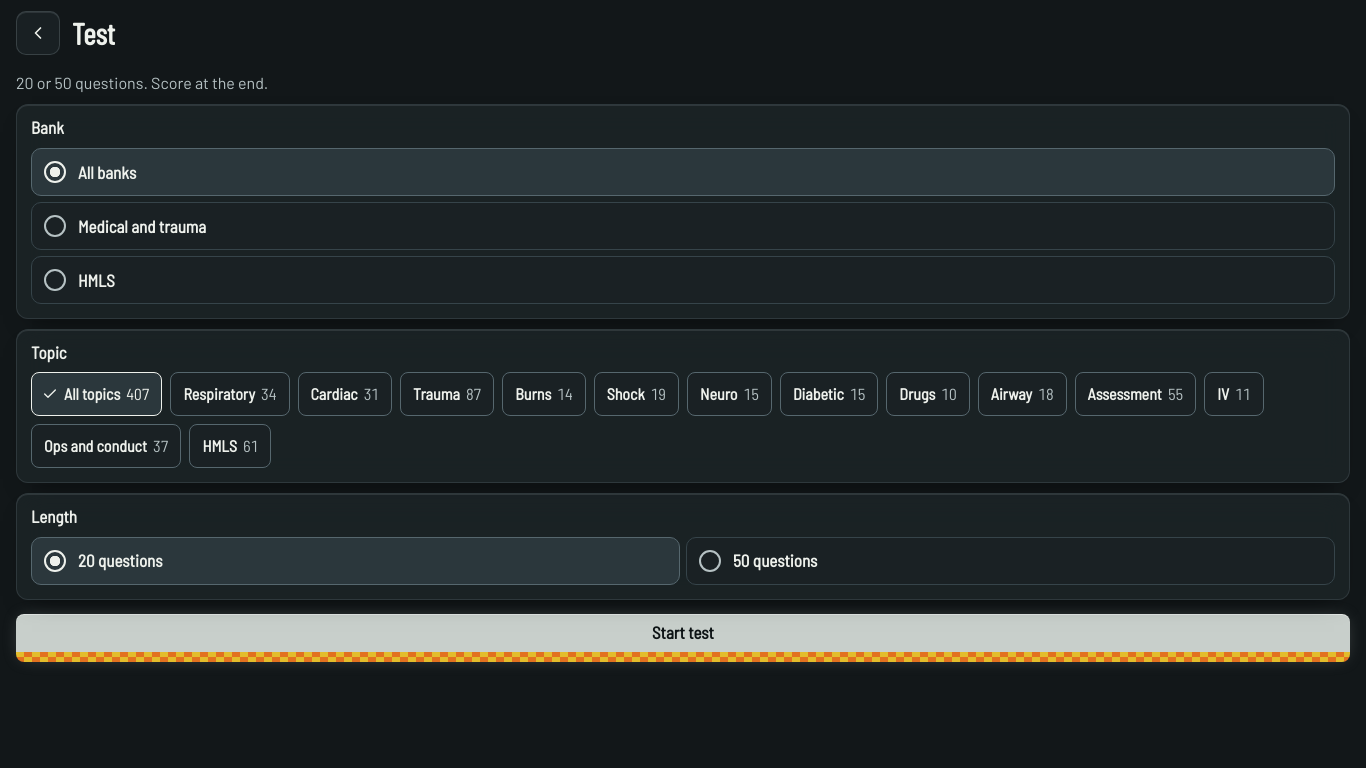
Quiz setup › says when fewer questions match than the test length, in Start’s description
The width and height of the screenshot is (1366, 768).
Step 1. Click the radio button labelled "Medical and trauma" → (55, 226), box [44,215,66,237]
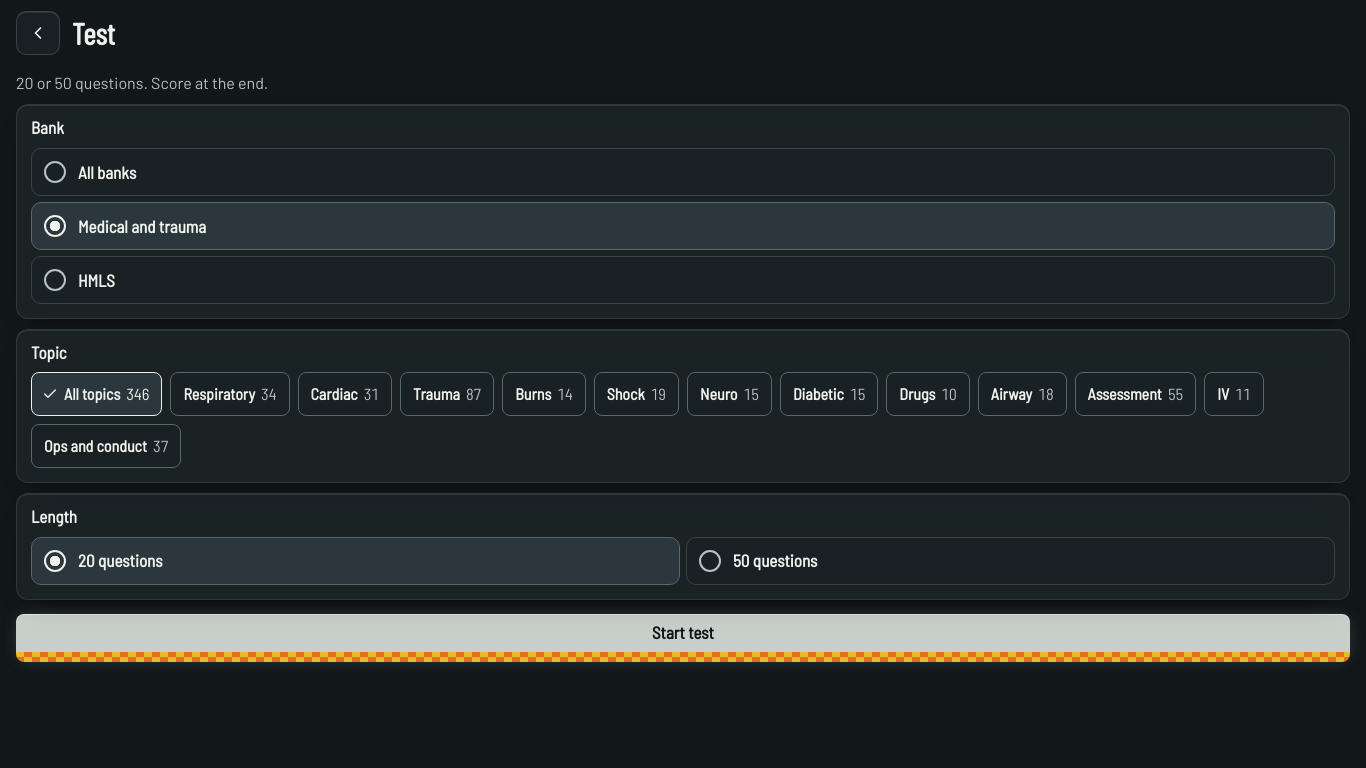
Step 2. Click the button "Burns 14" → (544, 394), box [502,372,586,416]
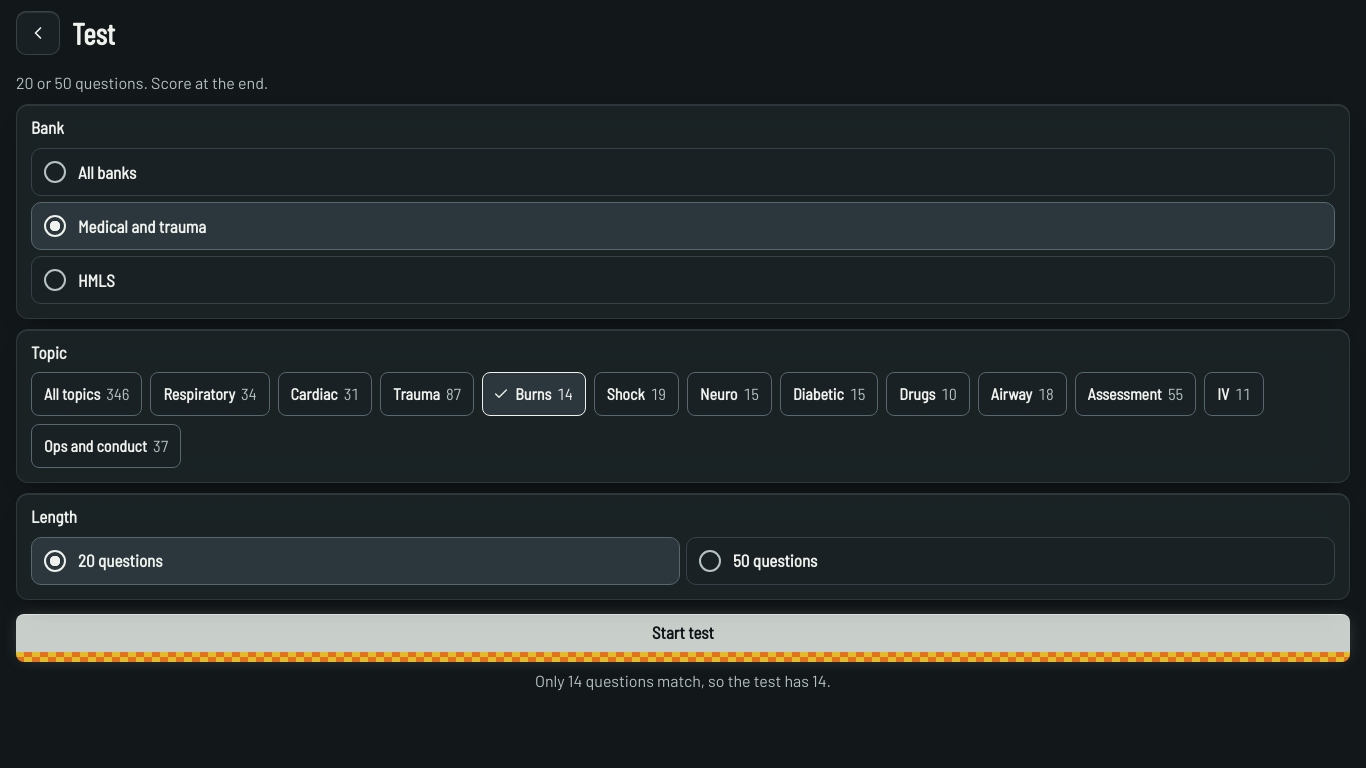
Step 3. Click the button "Respiratory 34" → (210, 394), box [150,372,270,416]
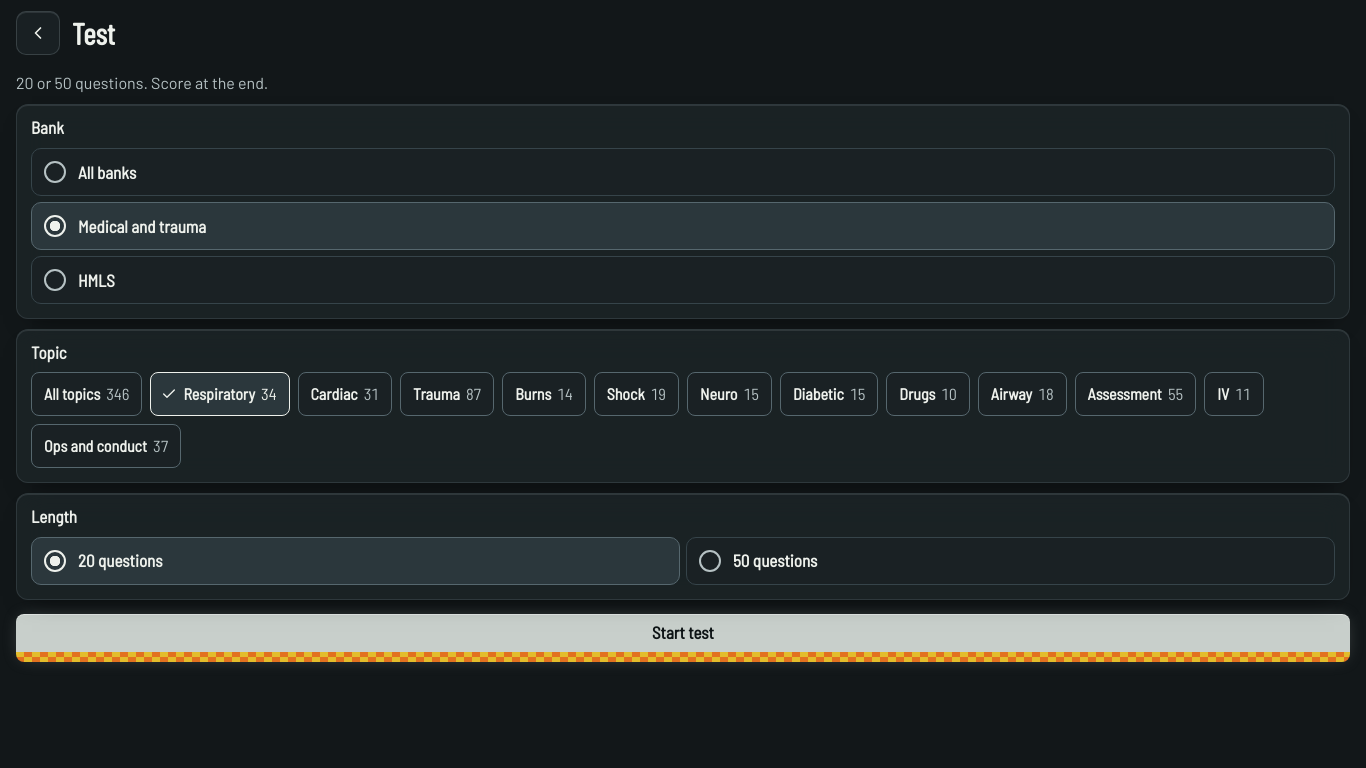
Check: the text "Only 14 questions match, so the test has 14." is gone
Step 4. Click the radio button labelled "50 questions" → (710, 561), box [699,550,721,572]
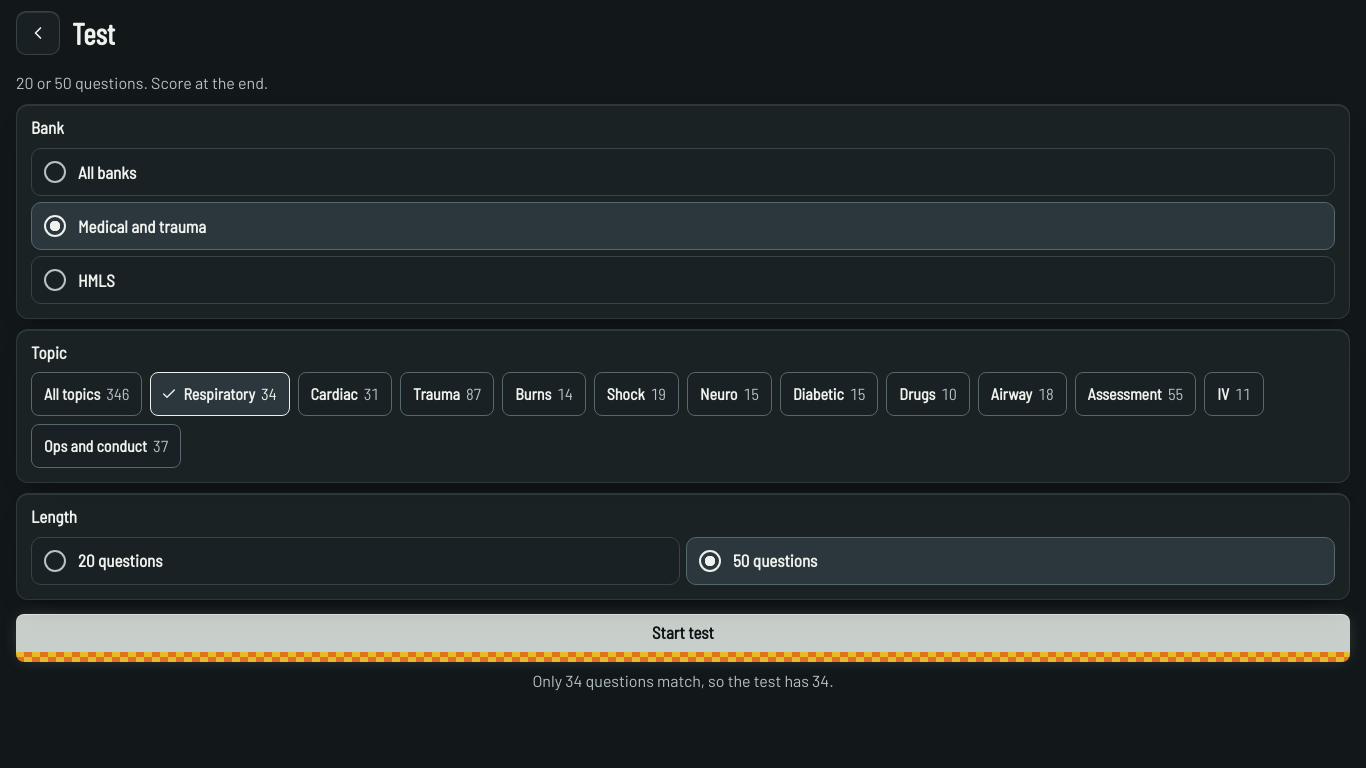
Check: the text "Only 34 questions match, so the test has 34." is shown, box [532,671,834,690]
